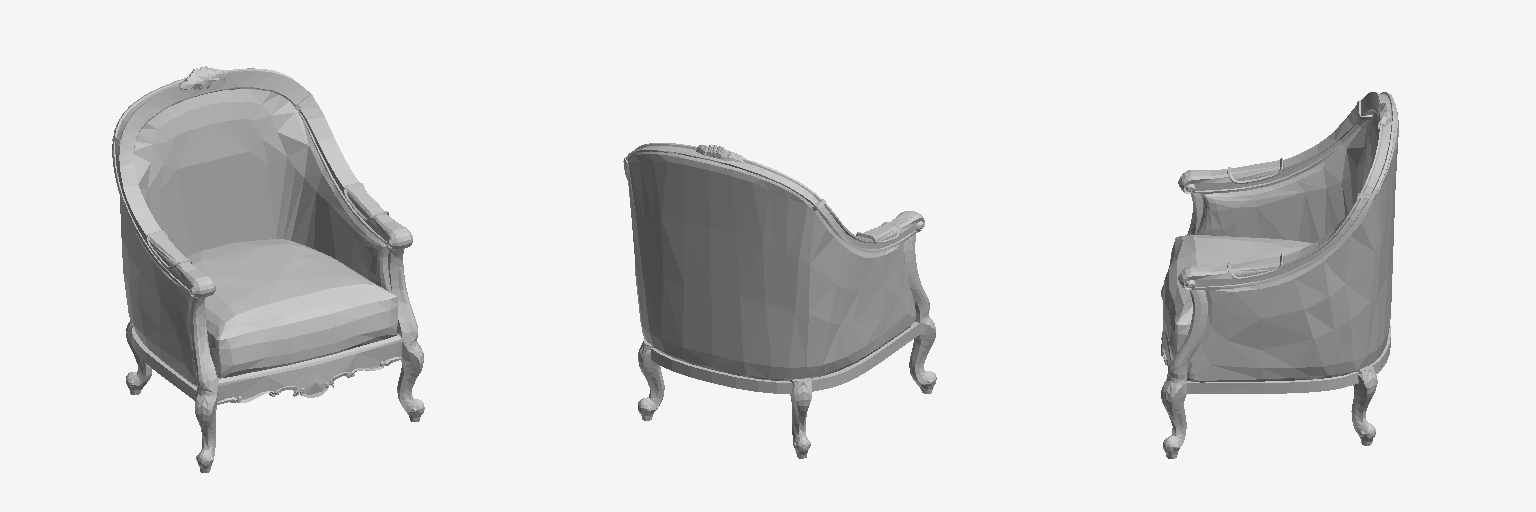
Rendered from ArmChair_01.obj.
3 renders of one model, left to right at view 1: azimuth 30°, elevation 25°; view 2: azimuth 150°, elevation 25°; view 3: azimuth 270°, elevation 25°, orthographic.
Parts seen in each view (by area): view 1: Armchair_01_Cylinder.001; view 2: Armchair_01_Cylinder.001; view 3: Armchair_01_Cylinder.001.
Part boxes in pixels (left/top/right/bottom): Armchair_01_Cylinder.001: left=112, top=66, right=424, bottom=472; Armchair_01_Cylinder.001: left=623, top=143, right=936, bottom=458; Armchair_01_Cylinder.001: left=1161, top=92, right=1398, bottom=458.
Size of the model in its own units: 0.8484 by 1.07 by 0.7658.